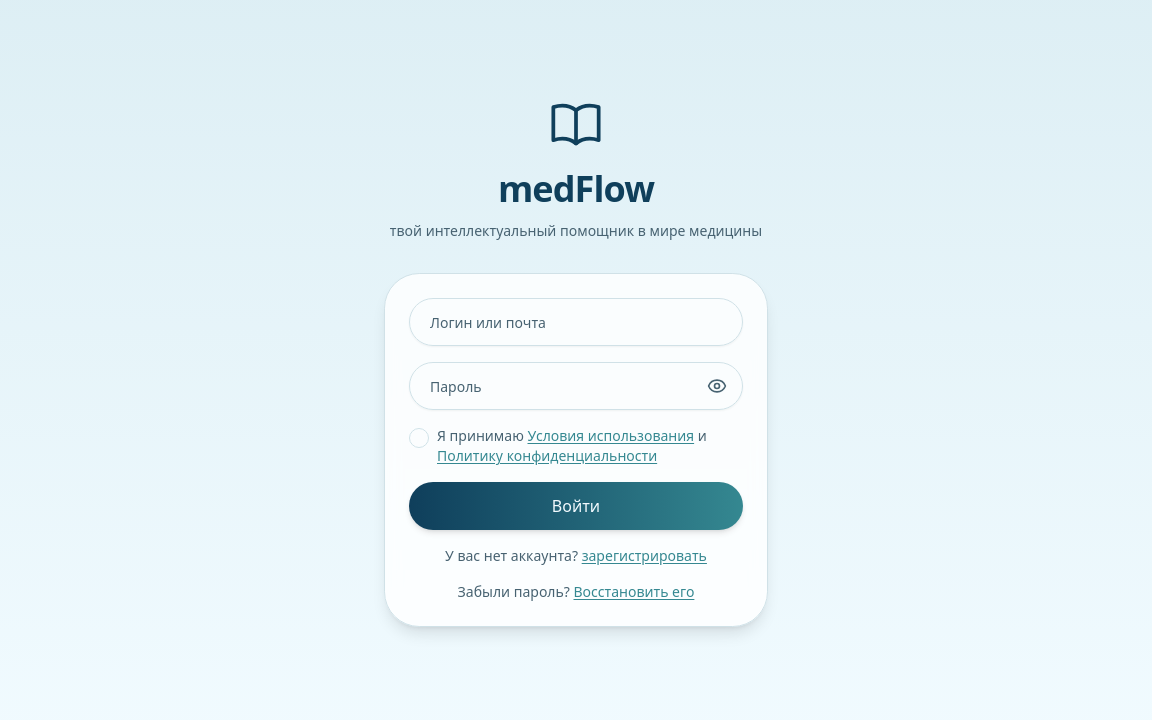
LoginPage › requires accepting terms before submitting
Type "student@sechenov.ru" into the field with placeholder "Логин или почта" at (576, 322), box [409, 298, 743, 346]
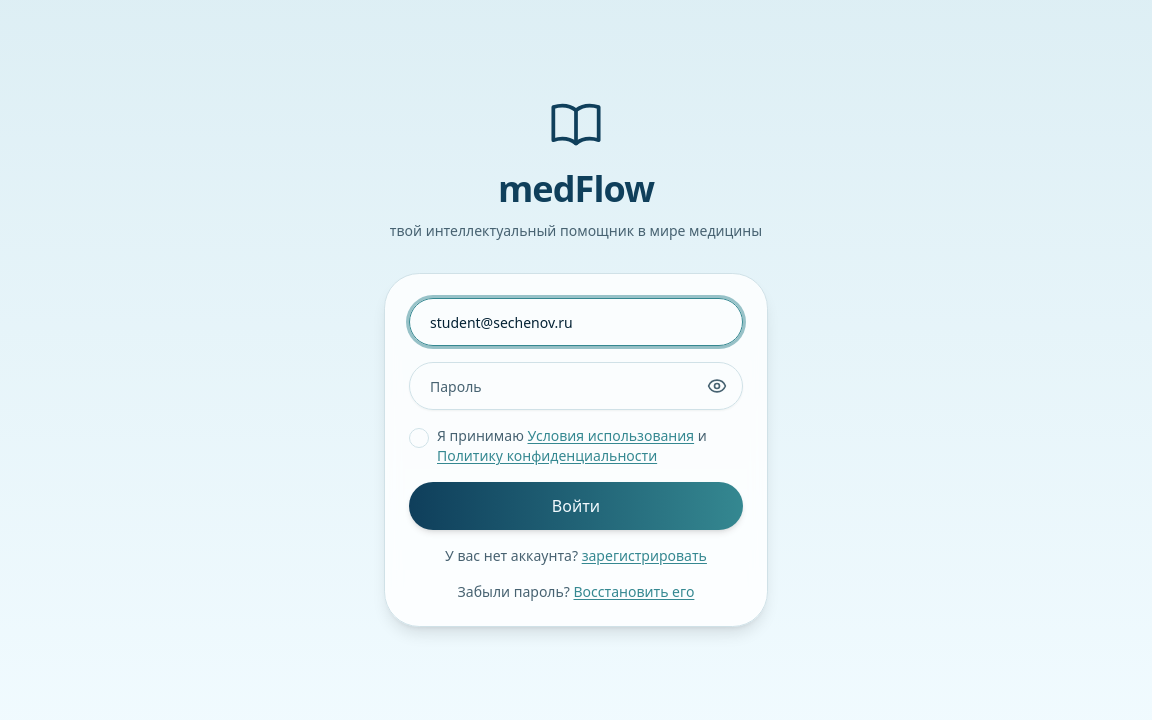
Type "password123" into the password field with placeholder "Пароль" at (576, 386), box [409, 362, 743, 410]
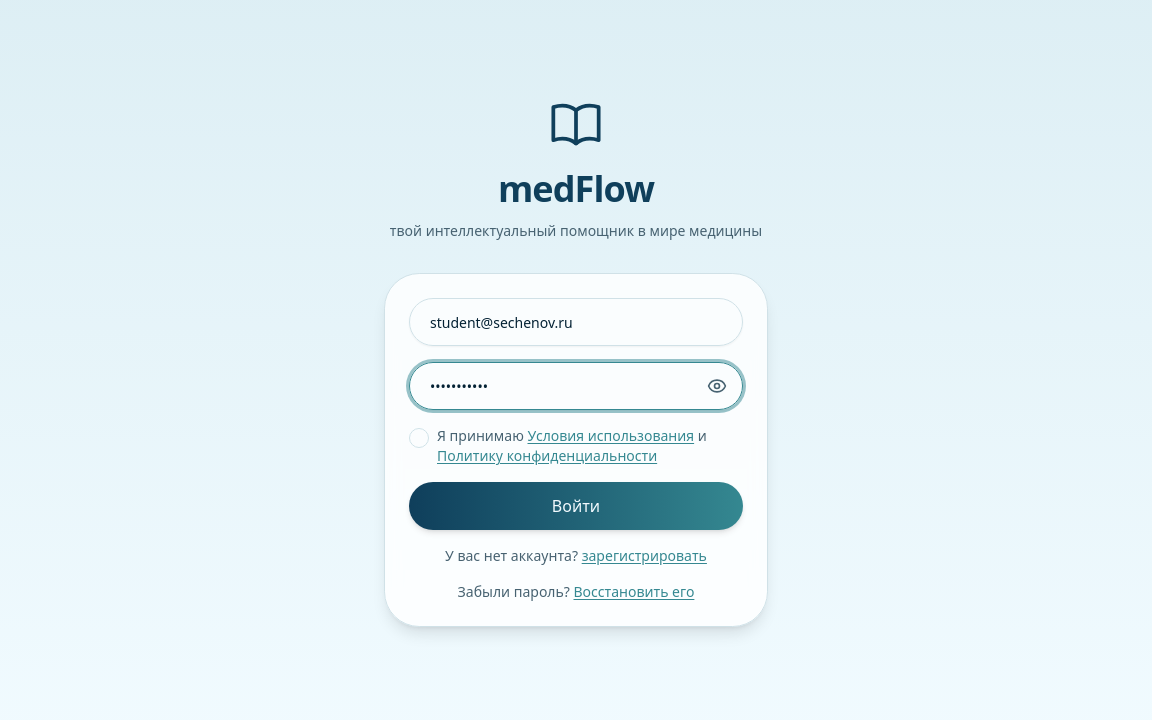
Click the button "Войти" at (576, 506), box [409, 482, 743, 530]
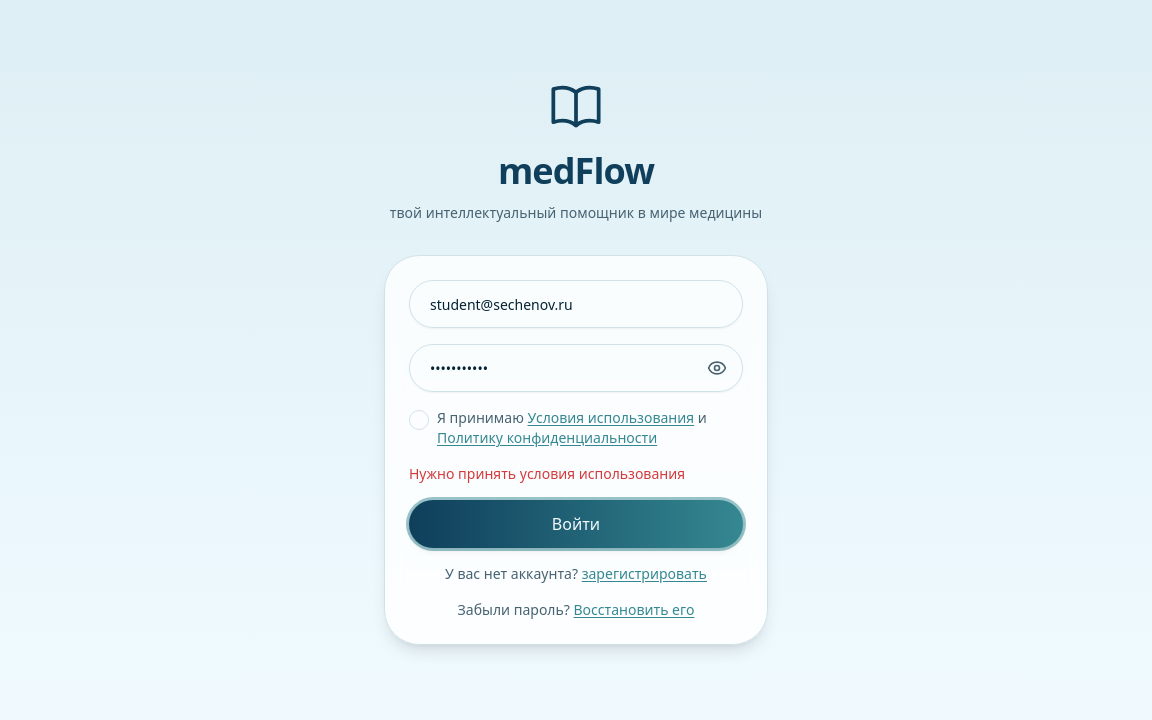
Now the text "Нужно принять условия использования" is shown, box [409, 464, 685, 483]
